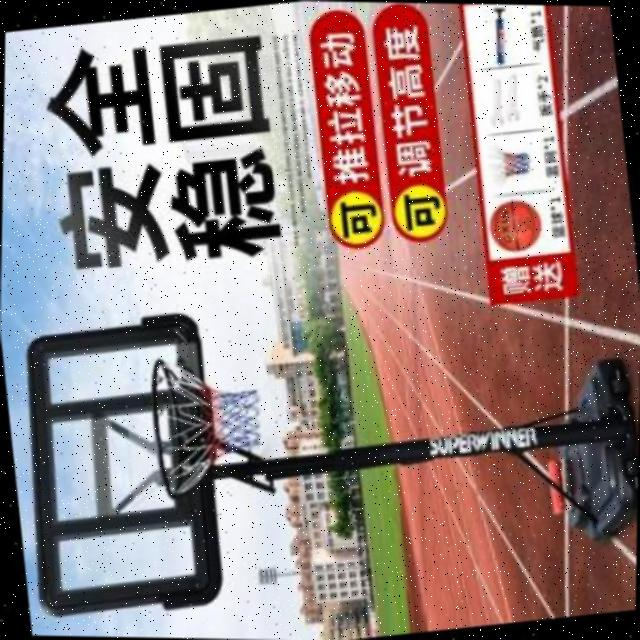ball: (483, 192, 547, 260)
